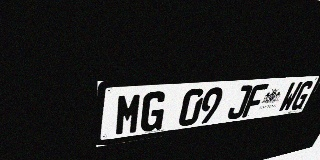0: (177, 88, 206, 127)
9: (197, 87, 225, 124)
F: (241, 84, 269, 118)
G: (139, 91, 168, 133), (289, 81, 315, 111)
J: (226, 85, 254, 120)
M: (114, 92, 143, 136)
W: (277, 81, 303, 113)
